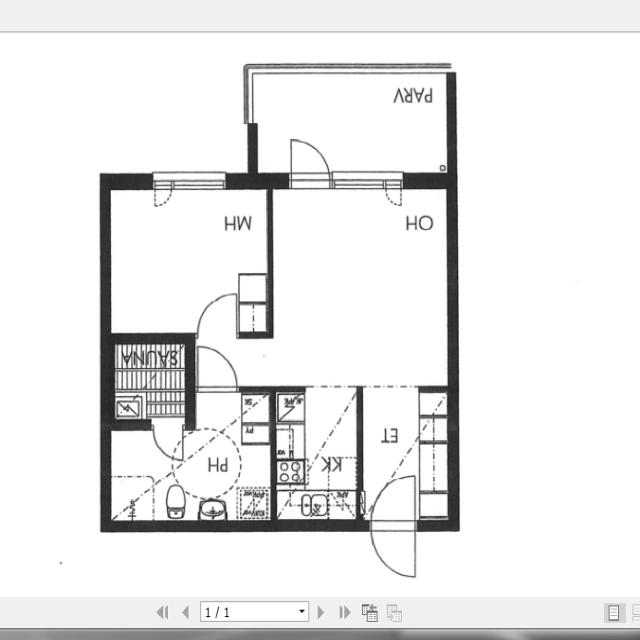door: (104, 405, 278, 523), (367, 470, 422, 580), (189, 284, 240, 346), (282, 134, 336, 190), (193, 340, 243, 396), (160, 166, 230, 202), (147, 414, 188, 462), (381, 172, 407, 212), (149, 177, 176, 211)
window: (330, 169, 400, 198), (169, 168, 232, 195)
zone: (266, 181, 459, 381), (105, 182, 269, 336), (106, 407, 272, 525), (276, 383, 359, 523), (109, 341, 190, 422)
